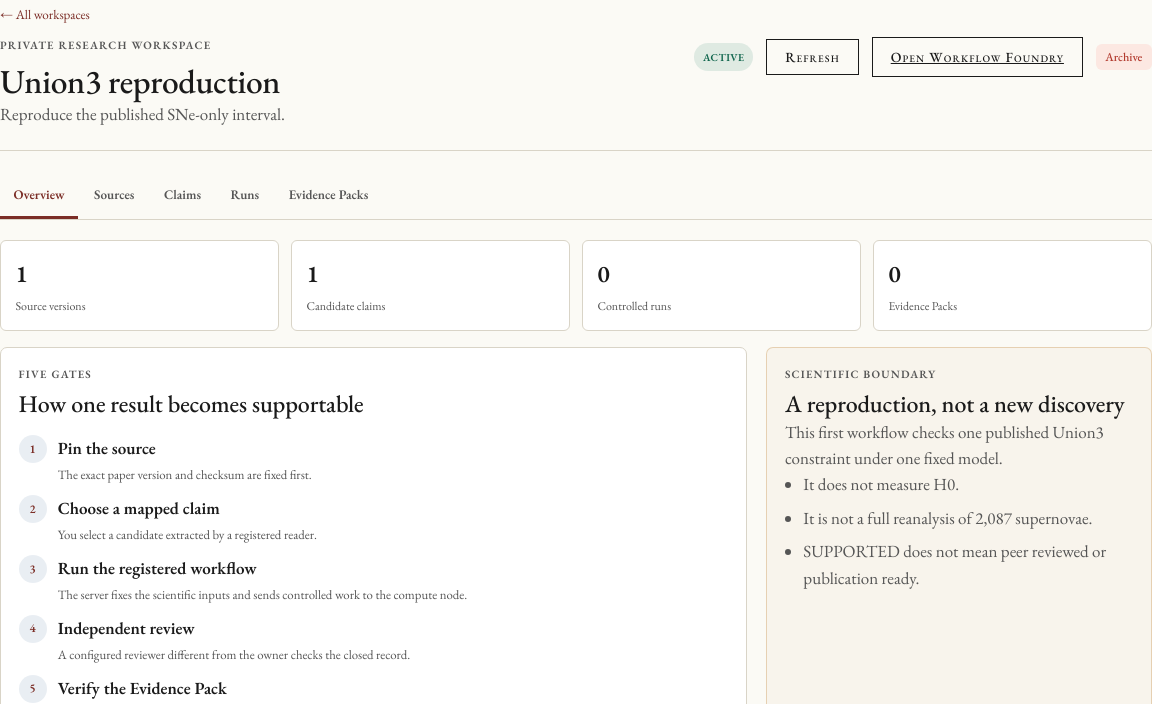
Test: Research workspace pages › fails closed when the catalog has no source-and-claim compatible workflow
The image size is (1152, 704).
Click the tab "Claims": (182, 196) [150,173,215,219]
(page scrolled)
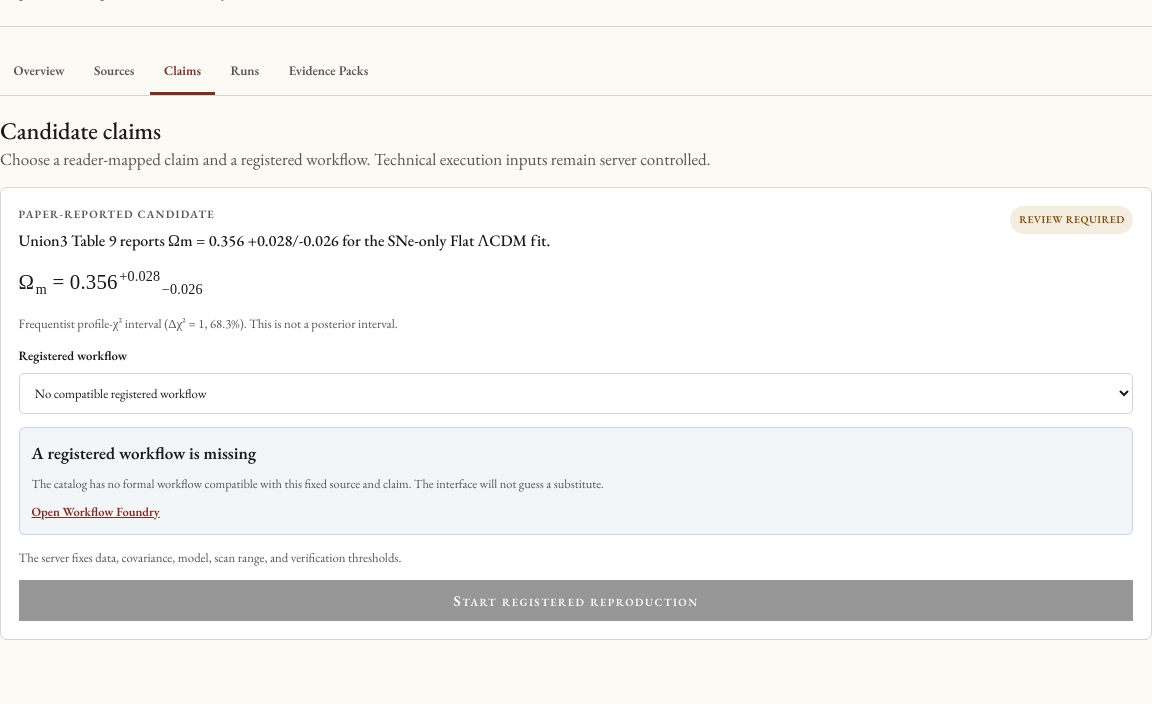
Check: the button "Start registered reproduction" is disabled, box [19,580,1133,621]
